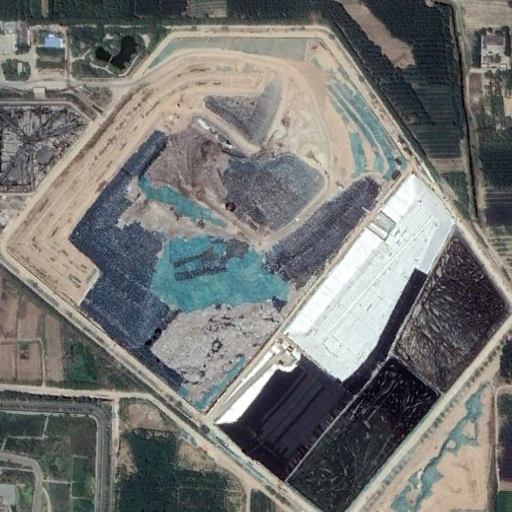lf: (7, 27, 512, 512)
